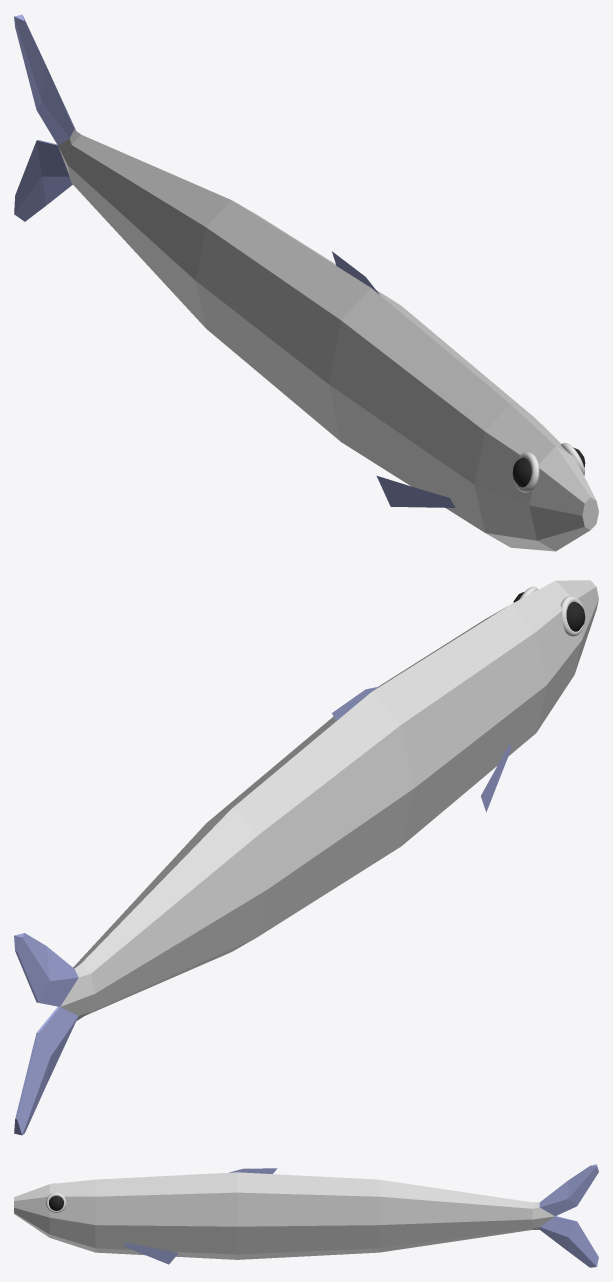
File: item02.fbx
3 renders of one model, top to bottom at view 1: azimuth 30°, elevation 25°; view 2: azimuth 150°, elevation 25°; view 3: azimuth 270°, elevation 25°, orthographic. The views are drawn at different scales.
Parts seen in each view (by area): view 1: 円柱; view 2: 円柱; view 3: 円柱.
Part boxes in pixels (x1,y1,x2,y2): 円柱: (14,14,598,551); 円柱: (14,580,598,1135); 円柱: (14,1164,598,1267).
Bounding box in the file's own units: 27.08 × 50 × 258.
